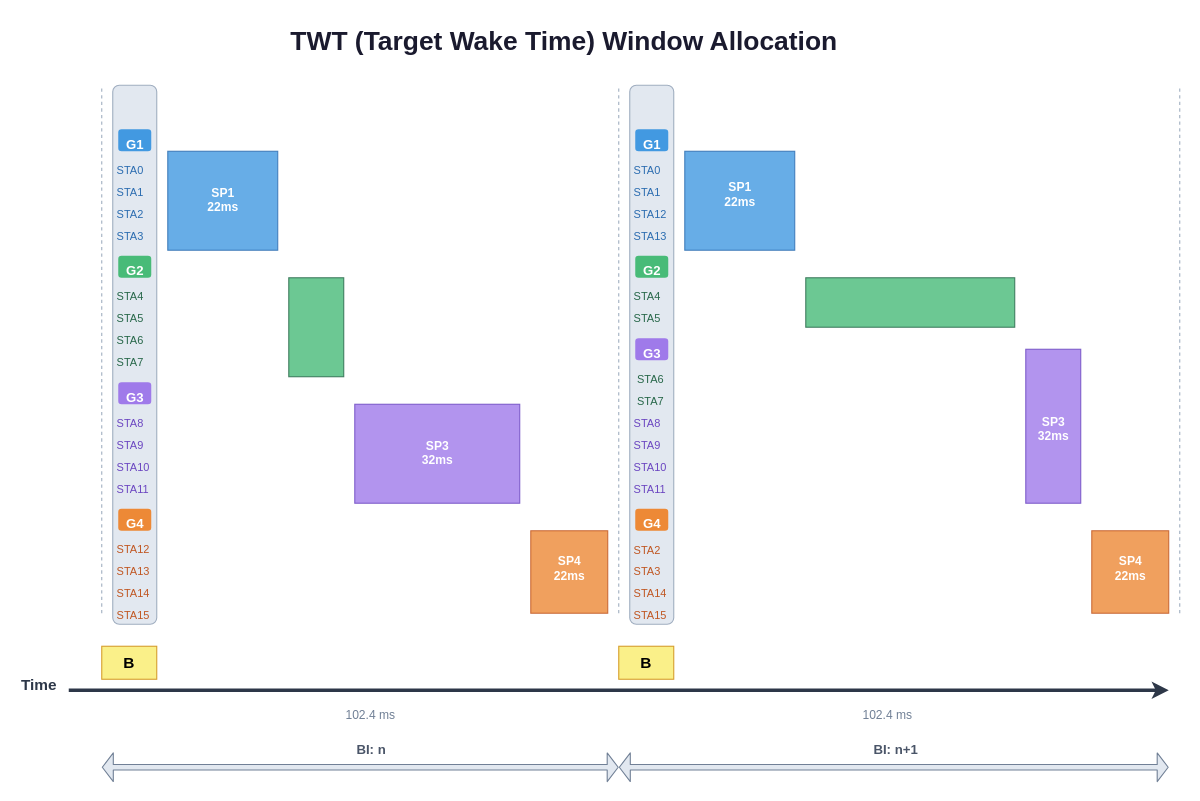
The diagram is 1200 pixels wide and 801 high, and some of its shapes have lost their labels. The centre of each missing label's shape, as x and y in pixels:
"SP2 12ms" belongs at point 316,327.
"SP2 32ms" belongs at point 910,302.
